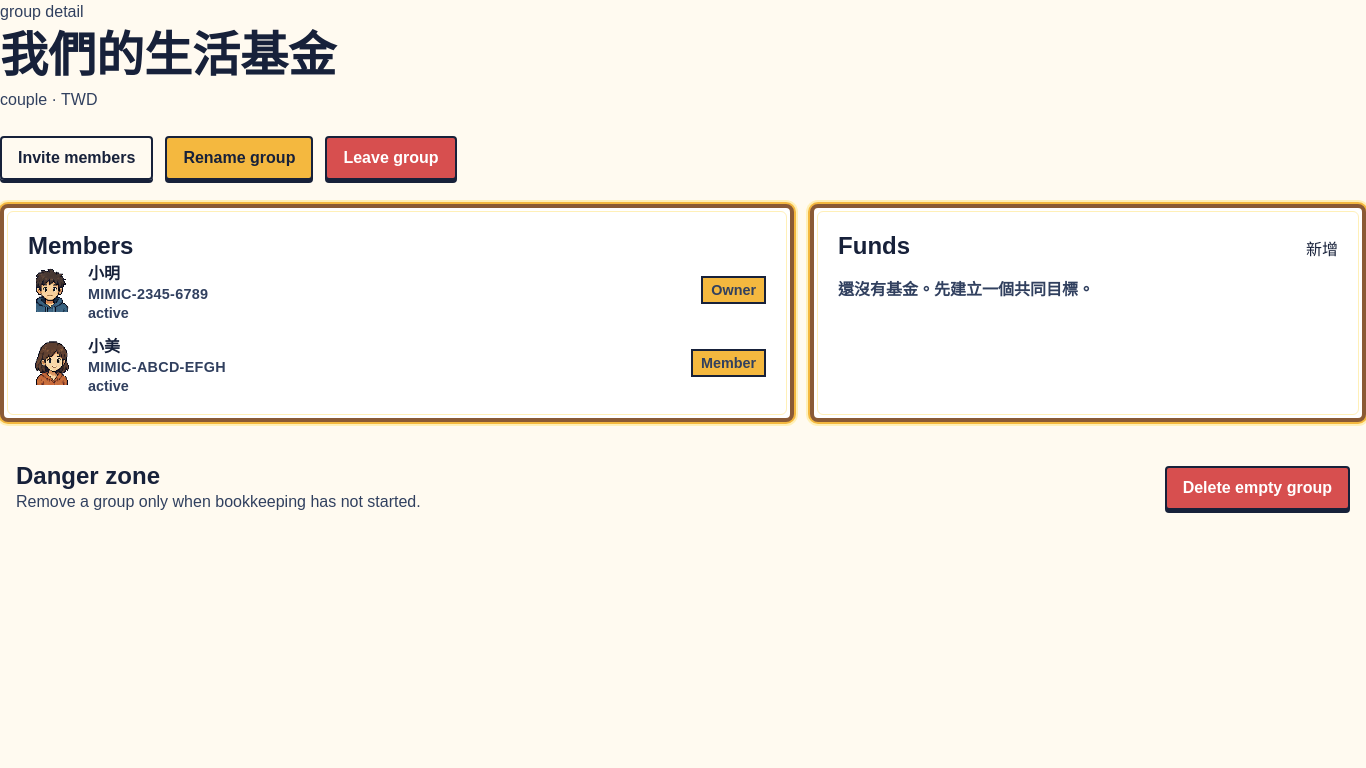
Test case: group detail actions › resets archive confirmation and errors after a normal close
Click the button "Delete empty group" at point(1257, 488), box [1165,466,1350,510]
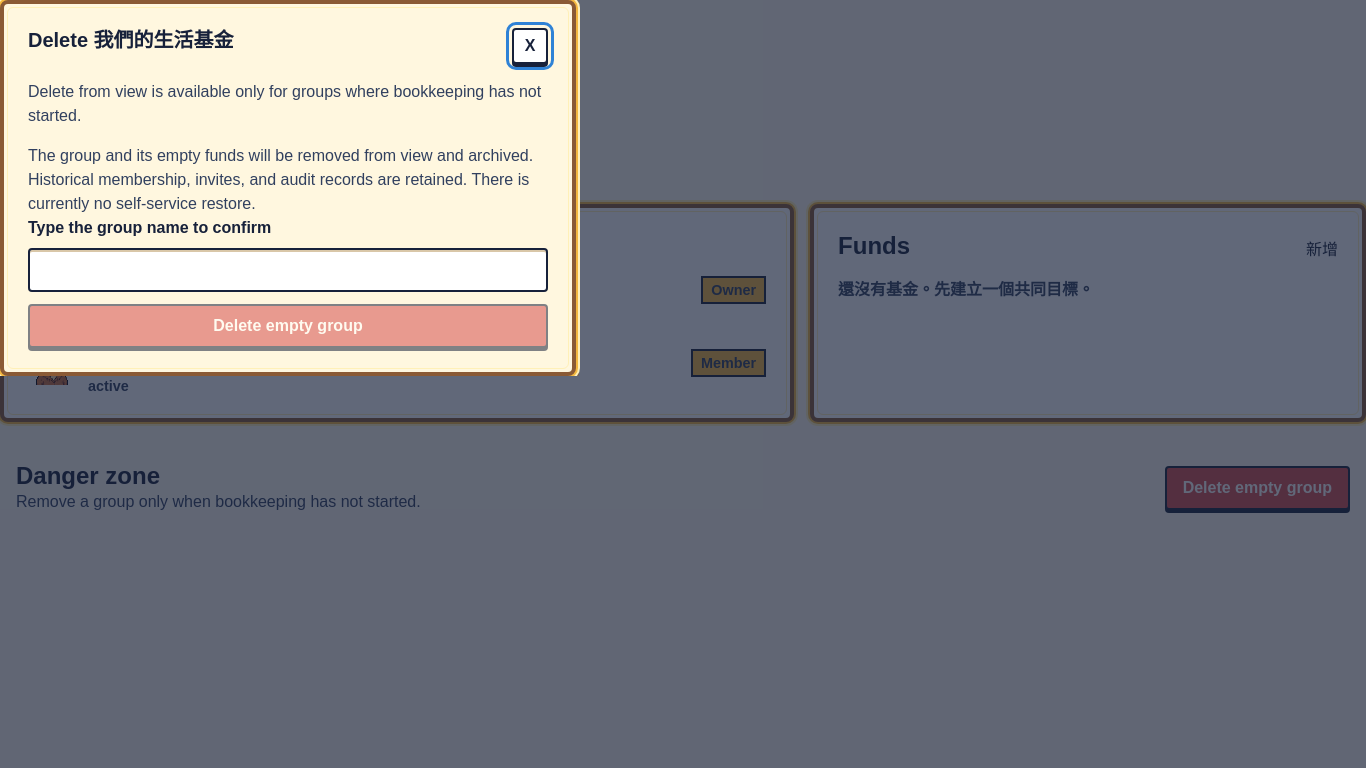
Type "我們的生活基金" into the field labelled "Type the group name to confirm" at point(288, 270), box [28,248,548,292]
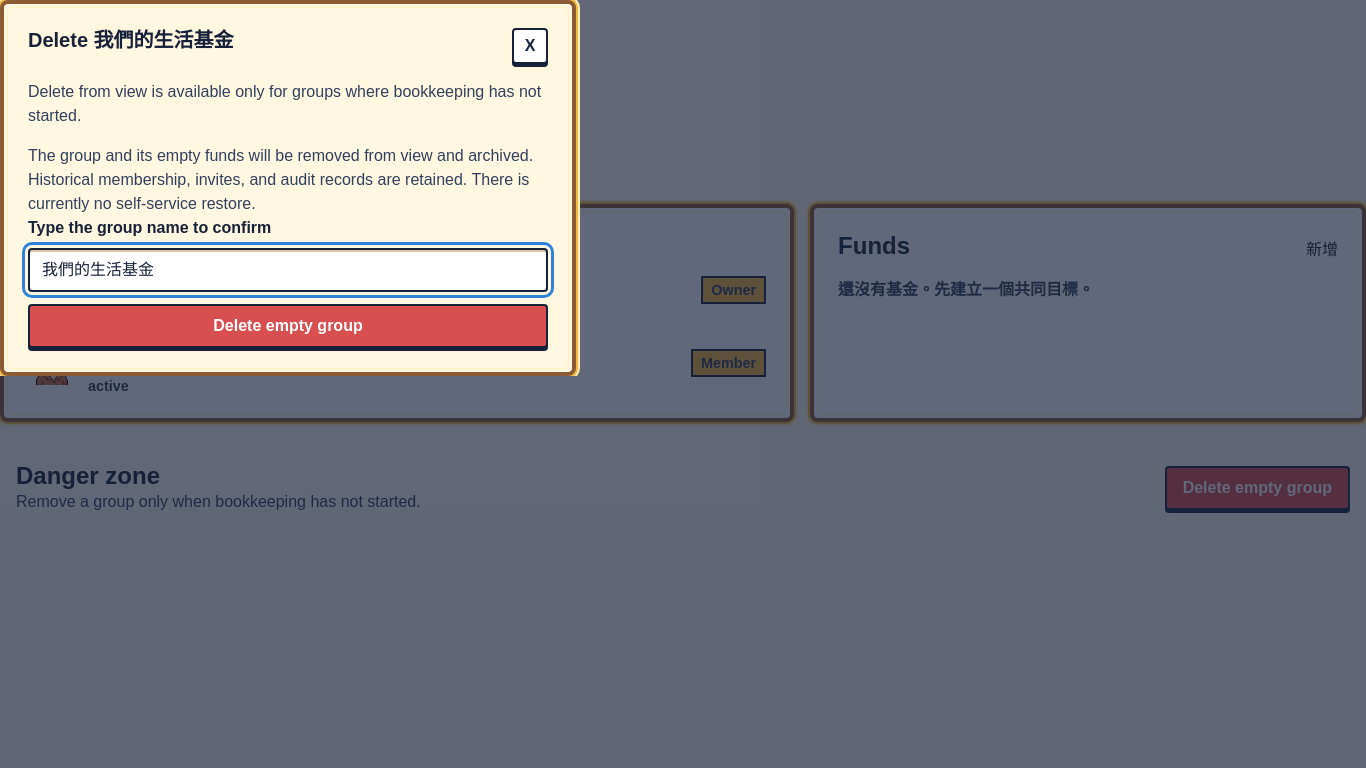
Click the button with aria-label "Delete empty group permanently from view" at point(288, 326), box [28,304,548,348]
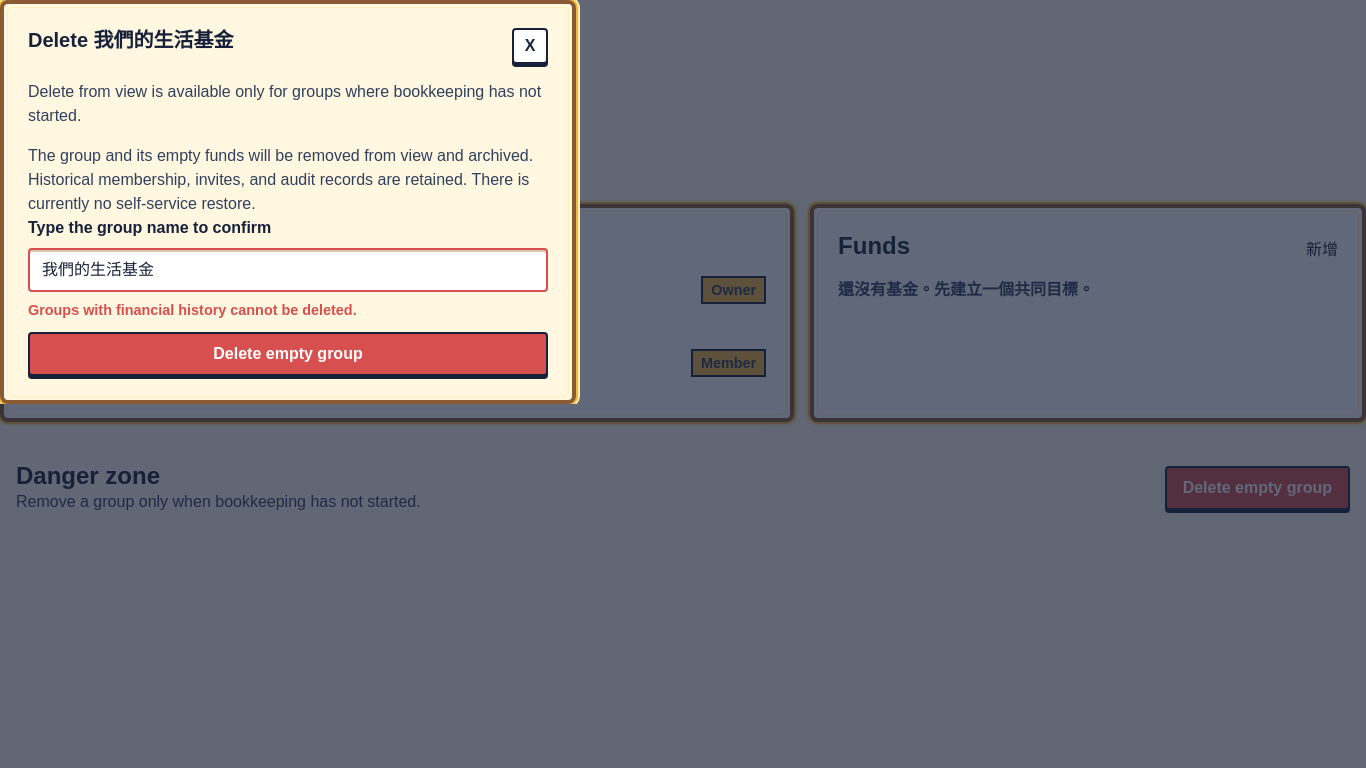
Now the message "Groups with financial history cannot be deleted." is shown, box [28,302,357,318]
Click the button named "Close dialog" at point(530, 46), box [512,28,548,64]
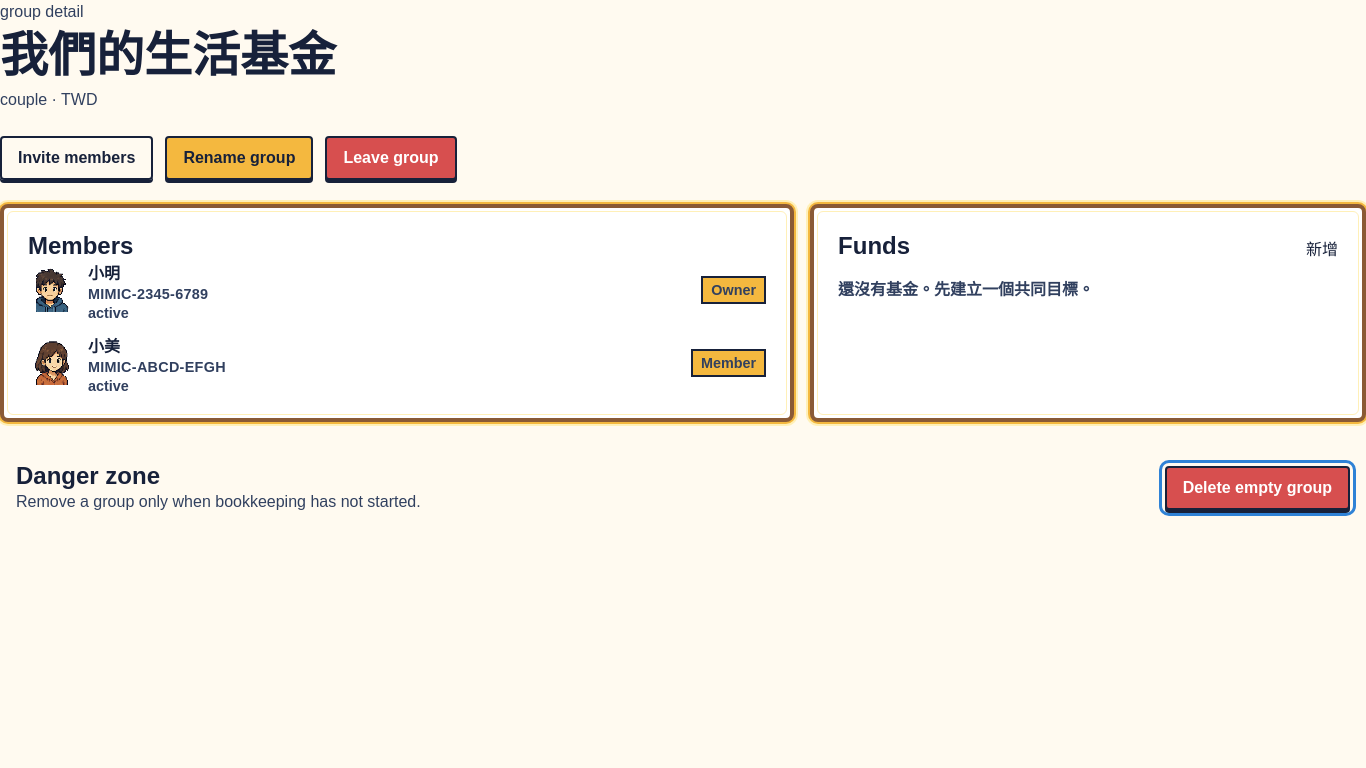
Click the button "Delete empty group" at point(1257, 488), box [1165,466,1350,510]
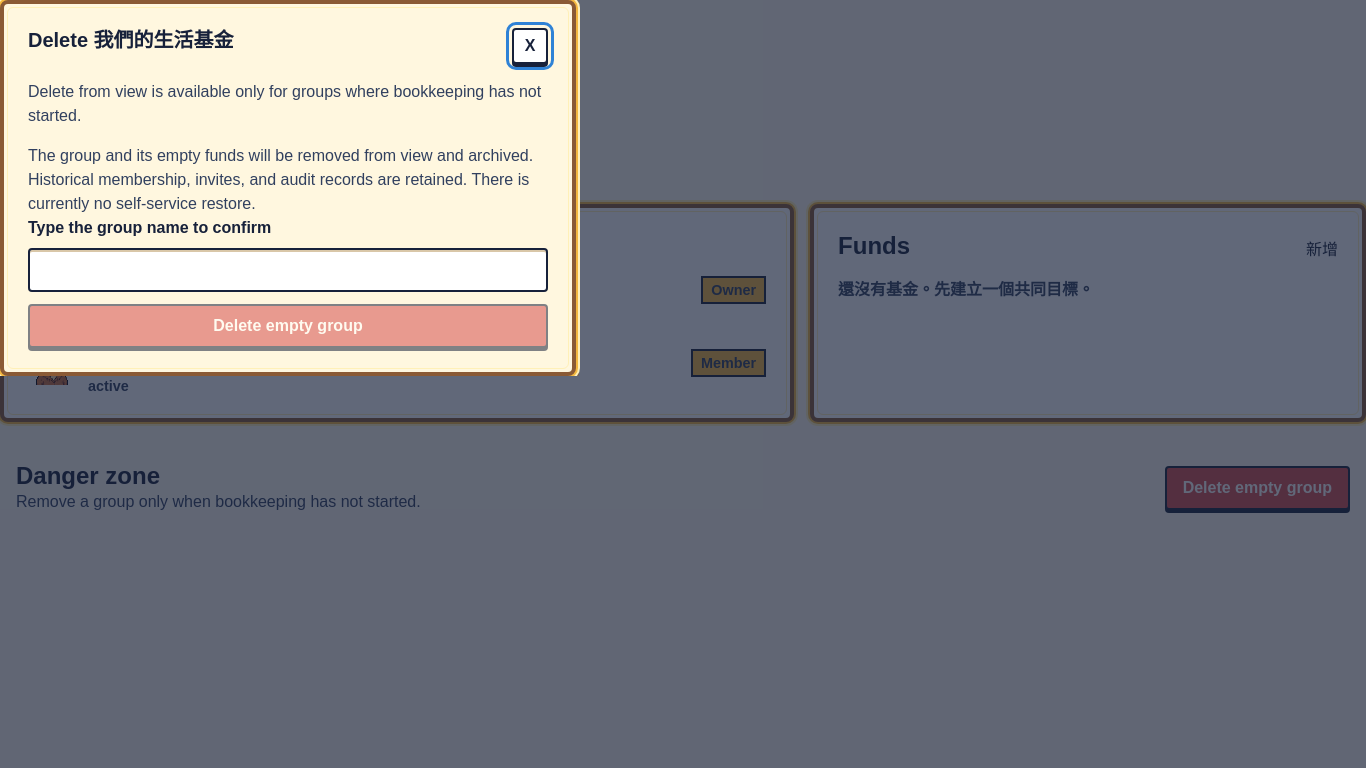
Expected: the message "Groups with financial history cannot be deleted." is not shown
Now the field labelled "Type the group name to confirm" is empty, box [28,248,548,292]
Now the button with aria-label "Delete empty group permanently from view" is disabled, box [28,304,548,348]
